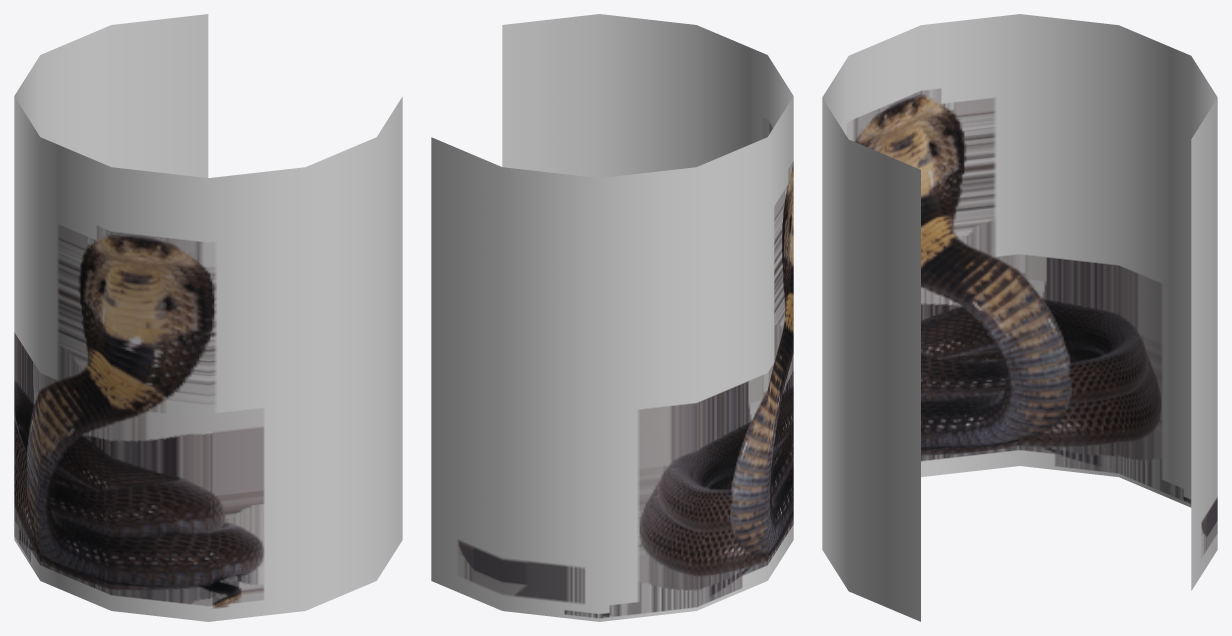
File: Props_Roh_Containment_003.FBX
3 views of the same model, side by side, from view 1: azimuth 30°, elevation 25°; view 2: azimuth 150°, elevation 25°; view 3: azimuth 270°, elevation 25° (orthographic).
Visible parts, largest first — view 1: Props_Roh_Containment_003; view 2: Props_Roh_Containment_003; view 3: Props_Roh_Containment_003.
Boxes of the visible parts, box(x1,y1,x2,y2) form: Props_Roh_Containment_003: box(14, 14, 402, 621); Props_Roh_Containment_003: box(431, 14, 793, 621); Props_Roh_Containment_003: box(822, 14, 1217, 621).
Bounding box in the file's own units: 6.33 × 8.55 × 6.78.
